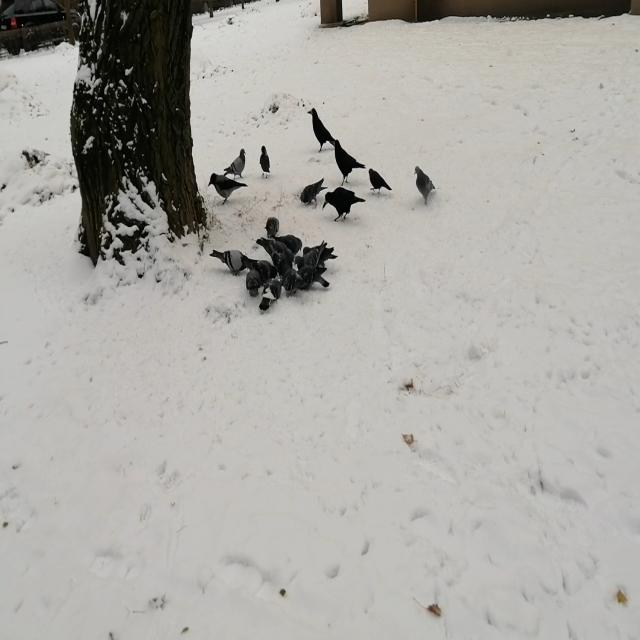bird: (331, 140, 365, 185), (322, 188, 366, 222), (308, 108, 335, 156), (208, 174, 246, 204), (210, 249, 249, 276), (294, 243, 325, 272), (414, 166, 435, 208), (260, 278, 281, 312), (281, 268, 302, 300), (368, 168, 392, 196), (224, 149, 246, 177), (246, 270, 260, 297), (259, 146, 270, 180), (266, 217, 280, 239)
